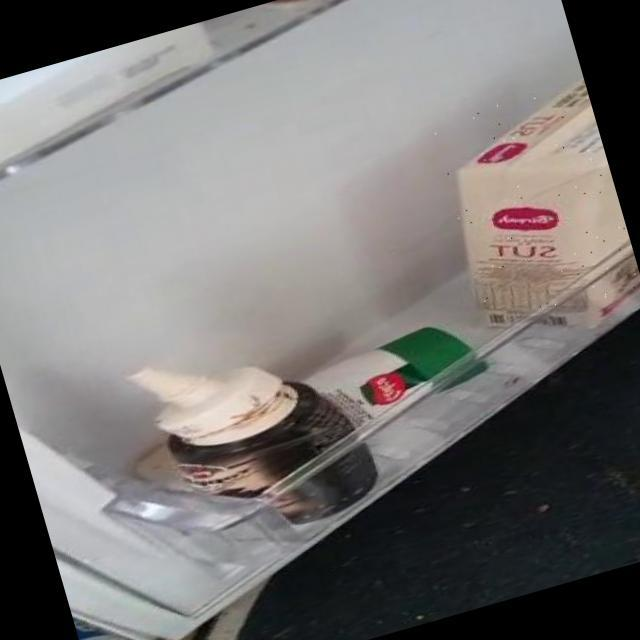milk: (429, 79, 640, 335)
